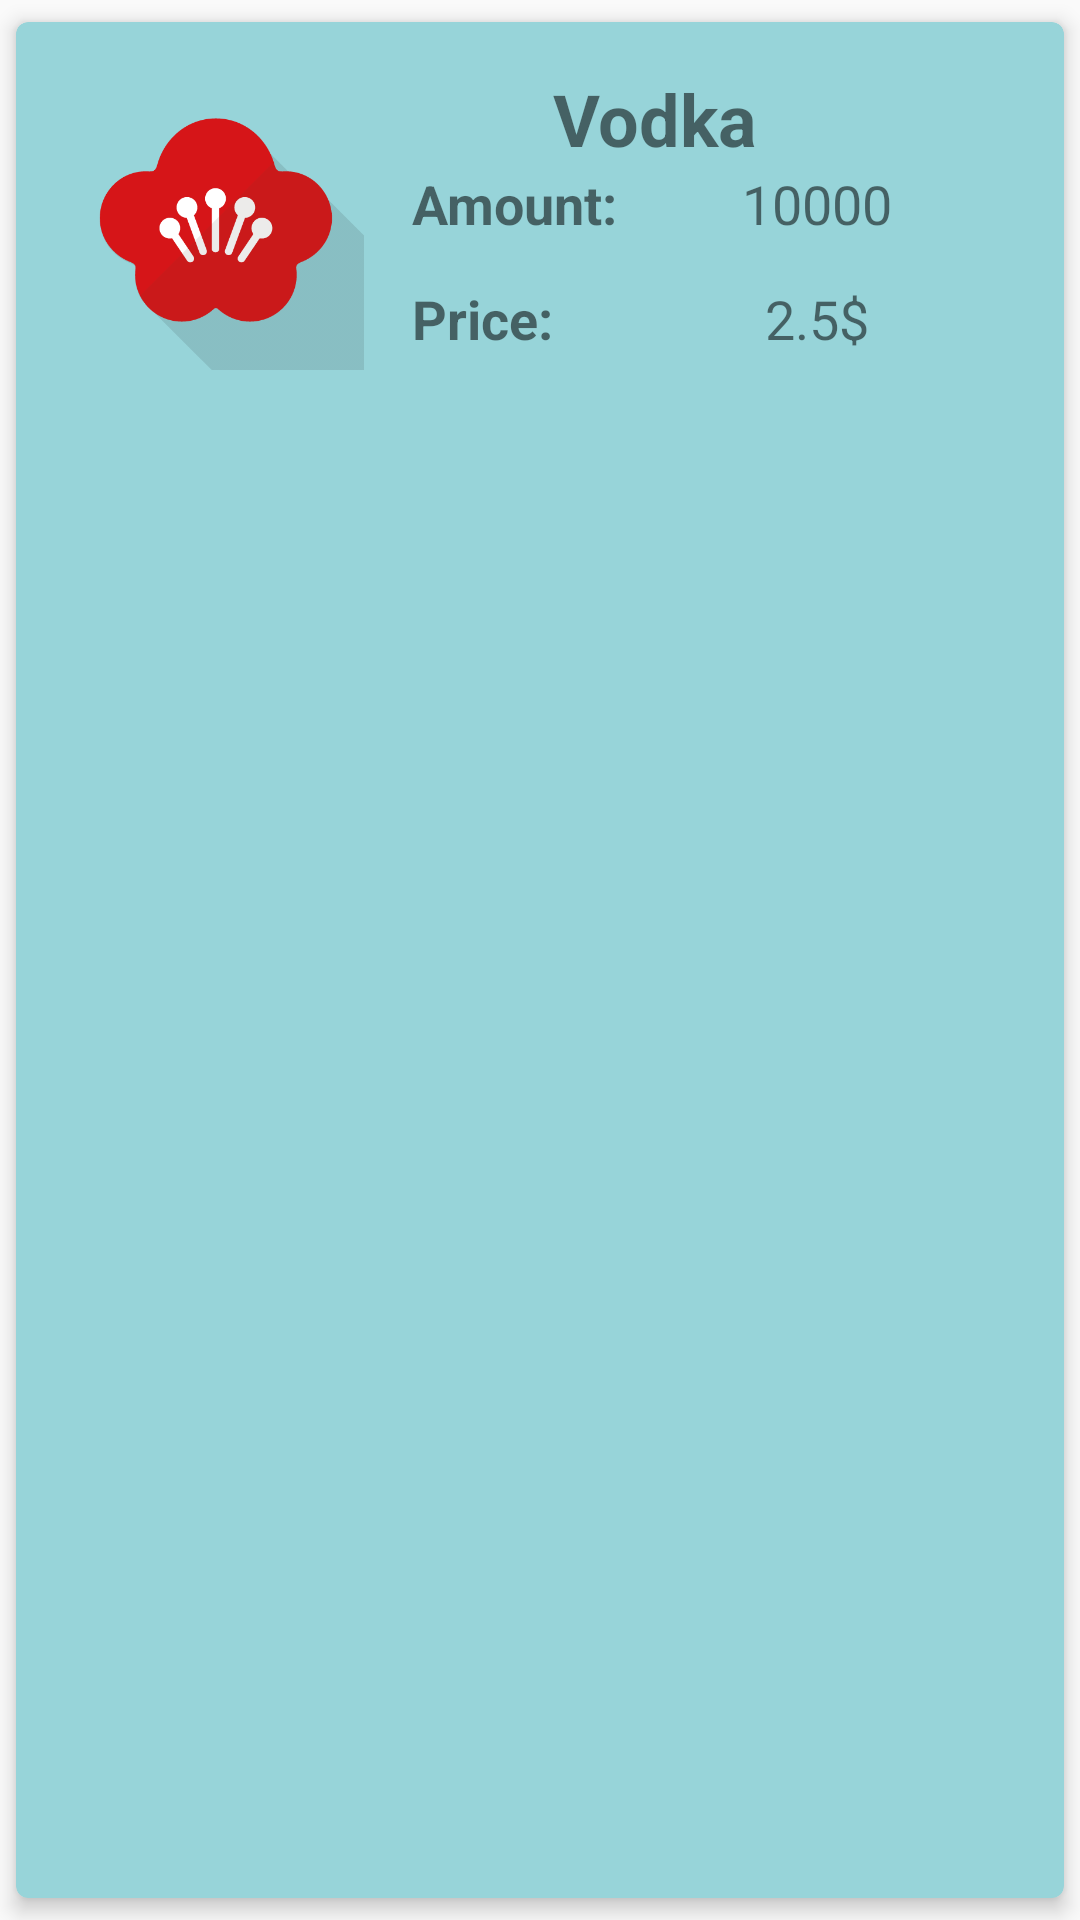

Icon bounding boxes for this 1080px x 1920px phone screenshot, format rect(x1, y1, x2, y2):
plum: rect(100, 118, 333, 322)
